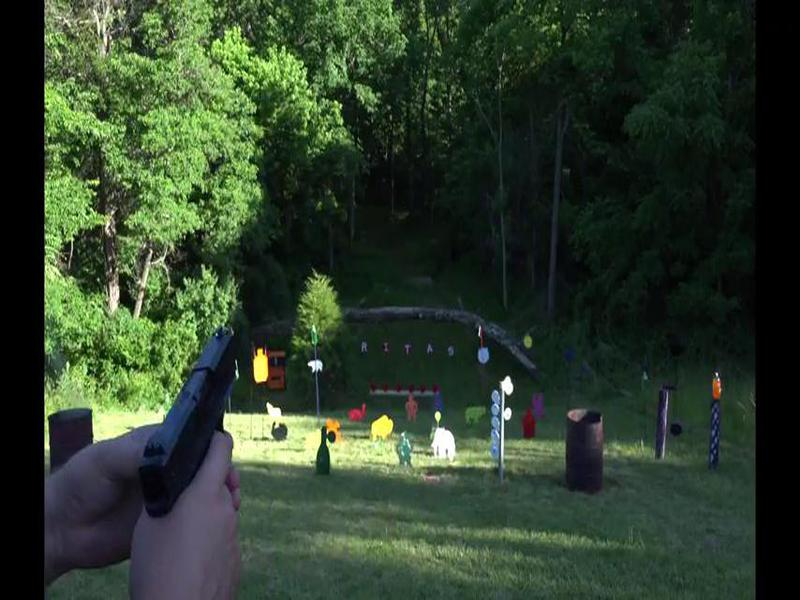Pistola: (92, 311, 251, 492)
